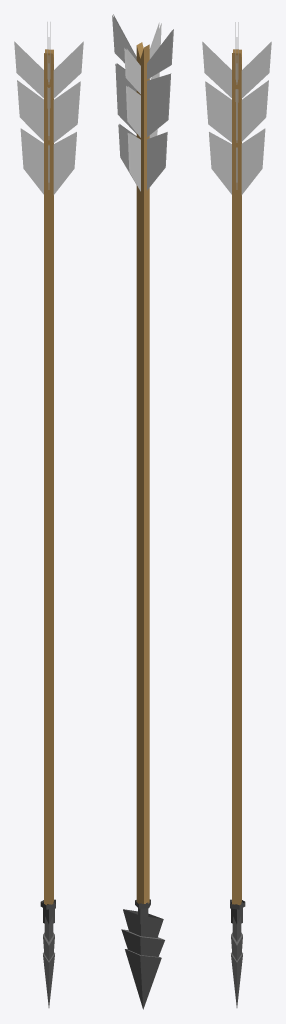
Rendered from Arrow_3.fbx.
The picture shows the model from 3 angles, left to right: view 1: azimuth 90°, elevation 25°; view 2: azimuth 150°, elevation 25°; view 3: azimuth 270°, elevation 25°; orthographic projection.
Visible parts, largest first — view 1: Comp_Arrow_03; view 2: Comp_Arrow_03; view 3: Comp_Arrow_03.
Boxes of the visible parts, x1,y1,x2,y2 form: Comp_Arrow_03: (14,22,83,1007); Comp_Arrow_03: (112,14,173,1009); Comp_Arrow_03: (202,22,271,1007).
Size of the model in its own units: 11.64 by 182 by 11.64.
